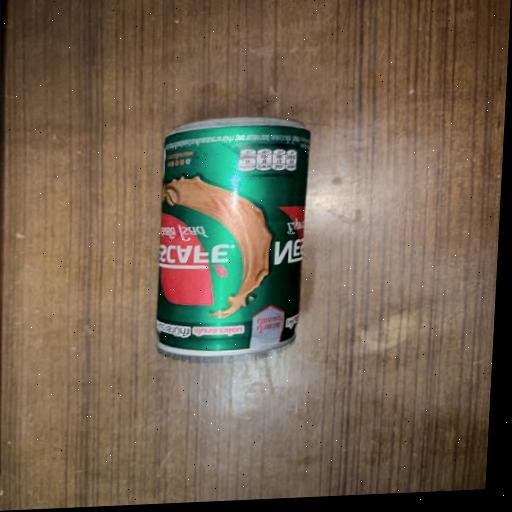bottle: (139, 106, 324, 369)
